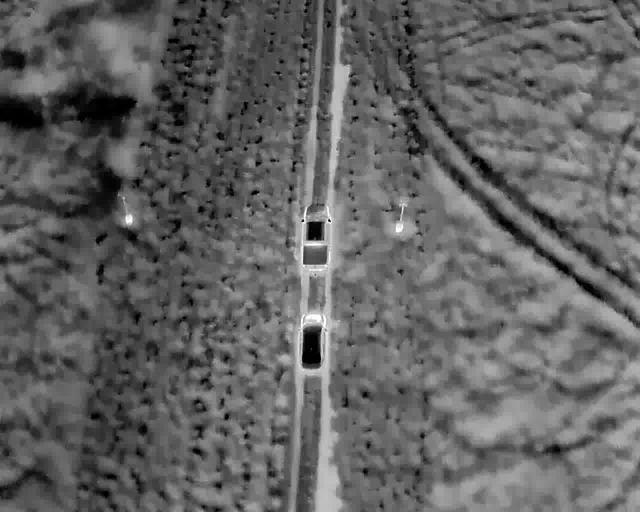car: (299, 203, 333, 271), (297, 314, 328, 370)
